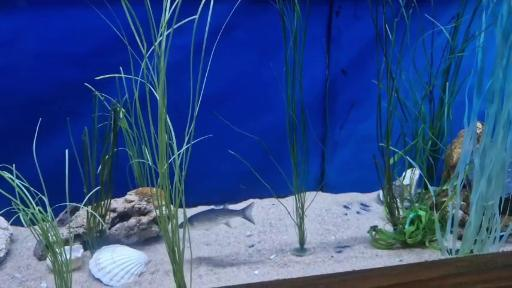Fish: (188, 203, 255, 230)
